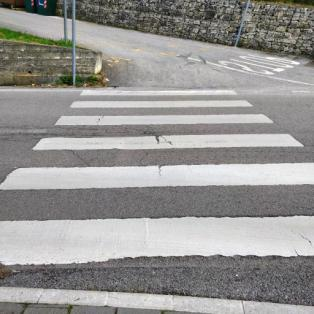Paso de Cebra: (0, 163, 314, 273), (28, 110, 309, 159), (62, 87, 259, 107)
